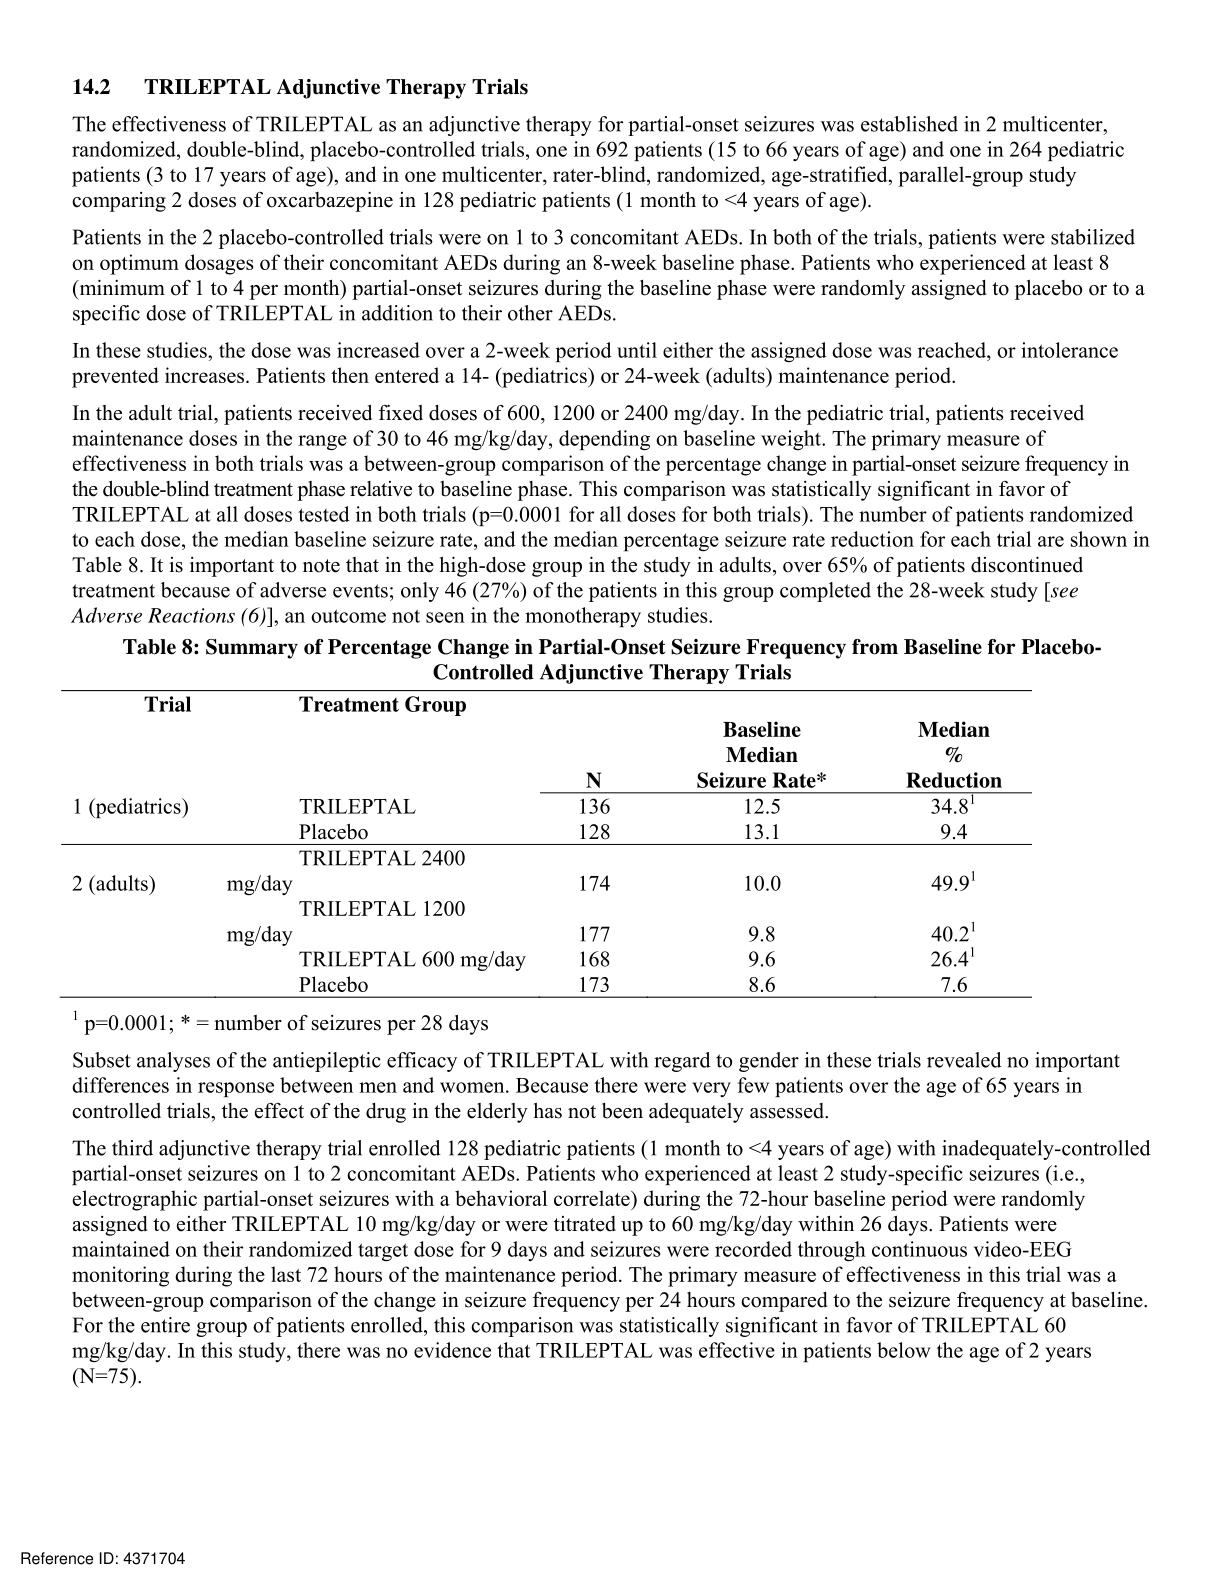partial_lined: (58, 689, 1032, 999)
